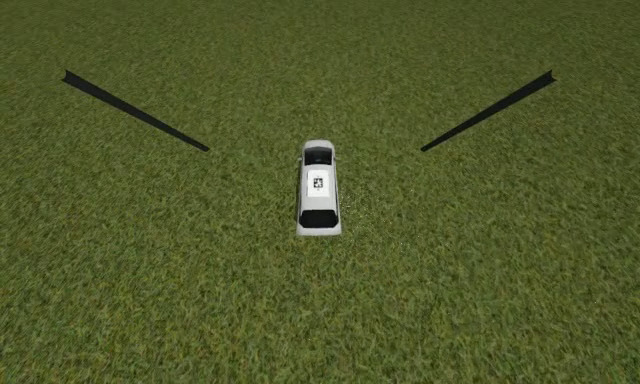Car: (298, 140, 342, 237)
Landing Pad: (308, 169, 331, 199)
